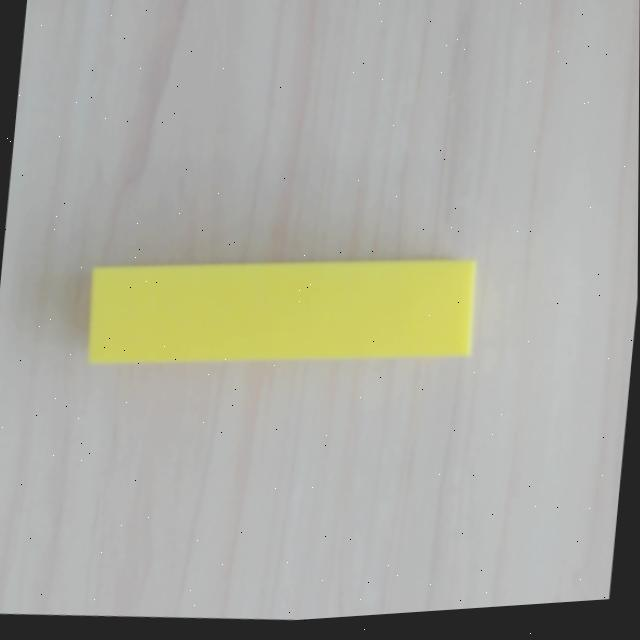Balok-Kuning-1002525: (87, 257, 478, 364)
